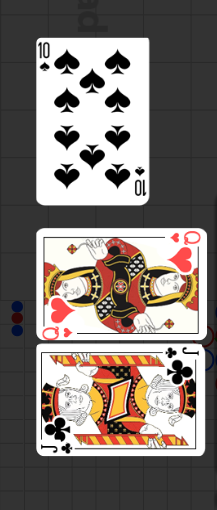10S: (133, 164, 148, 198), (38, 41, 52, 74)
JC: (163, 344, 200, 360)
